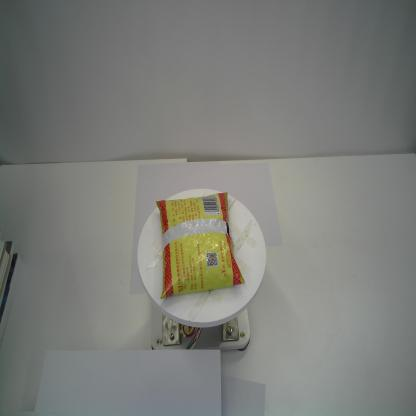Seasoner: (156, 191, 245, 301)
